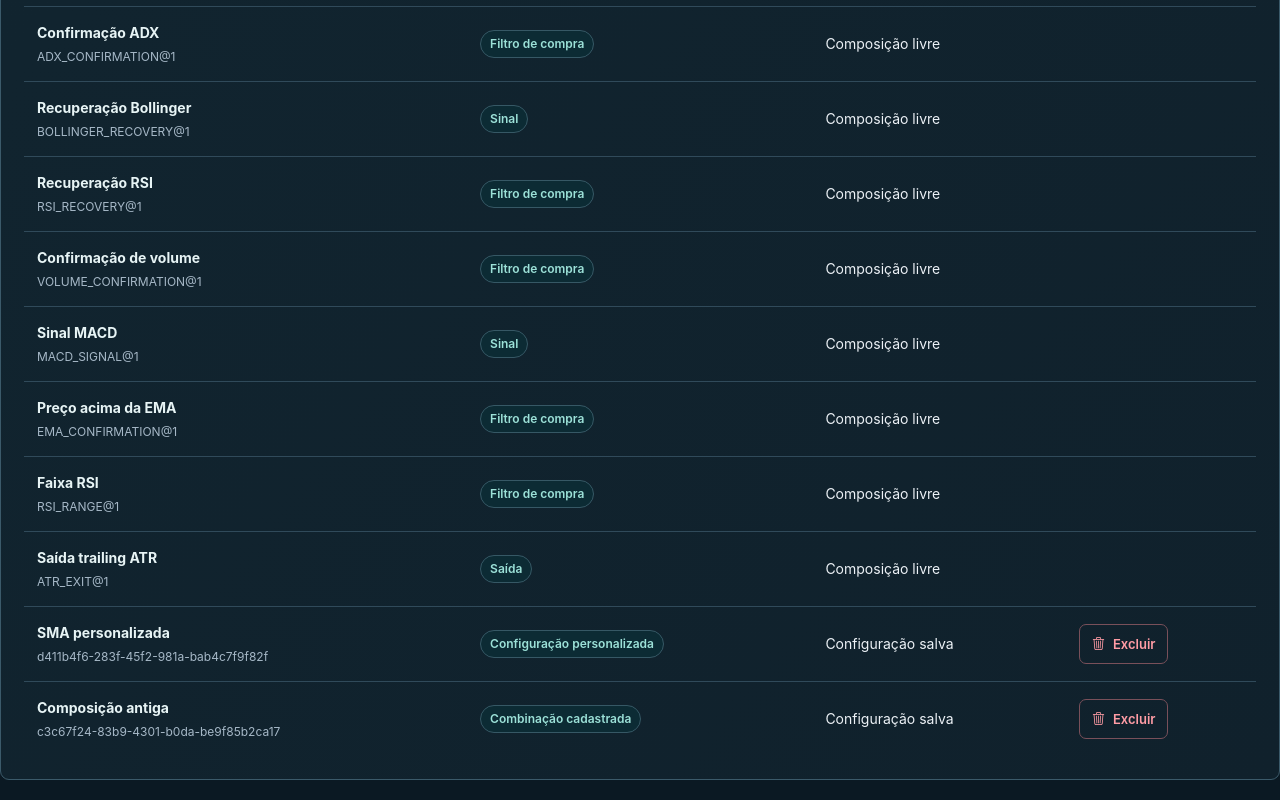
Test: bloqueia e explica cópias antigas cuja origem não pode ser confirmada após edições
This screenshot has width=1280, height=800.
(page scrolled)
Click the button "Excluir" in the row of "SMA personalizada": click(1124, 644) [1079, 624, 1168, 664]
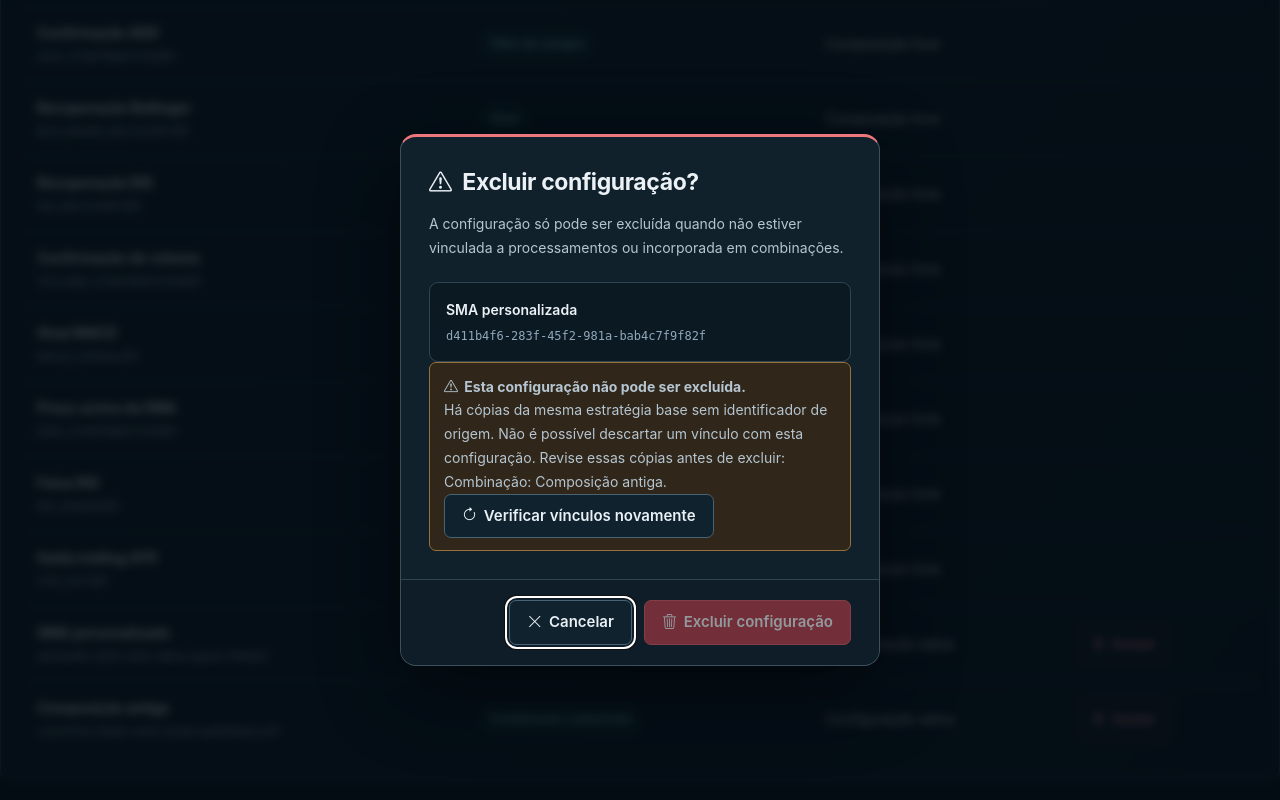
Check: the message shows "sem identificador de origem", box [444, 401, 827, 442]
Check: the button "Excluir configuração" is disabled, box [644, 600, 851, 644]
